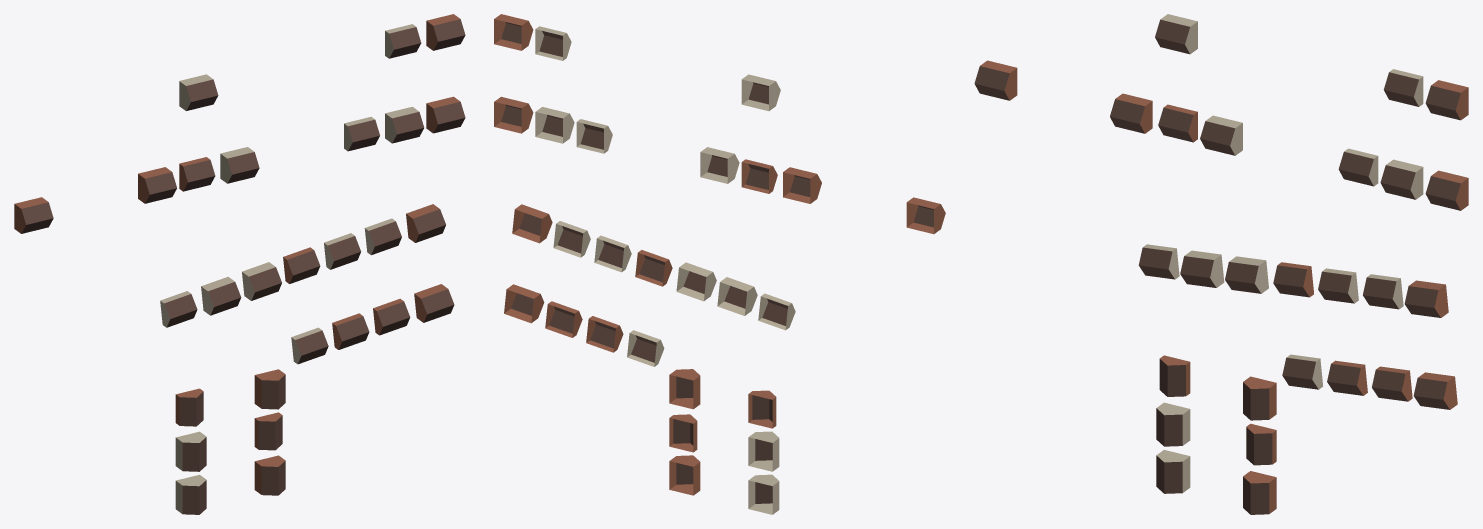
File: island_bldg_20_03.obj
3 renders of one model, left to right at view 1: azimuth 30°, elevation 25°; view 2: azimuth 150°, elevation 25°; view 3: azimuth 330°, elevation 25°, orthographic. The views are drawn at different scales.
Parts seen in each view (by area): view 1: island_bldg_20_03; view 2: island_bldg_20_03; view 3: island_bldg_20_03.
Part boxes in pixels (x1=…): island_bldg_20_03: x1=14, y1=14, x2=465, y2=514; island_bldg_20_03: x1=494, y1=14, x2=945, y2=514; island_bldg_20_03: x1=974, y1=14, x2=1468, y2=514.
Bounding box in the file's own units: 256 × 238 × 11.93.
